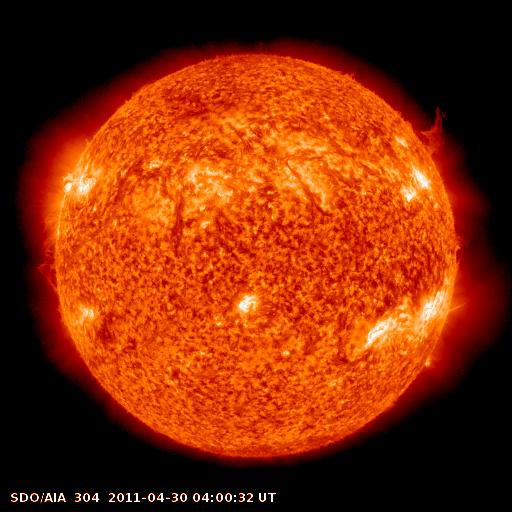prominence: (410, 101, 455, 165), (31, 231, 66, 294), (445, 227, 475, 270)
